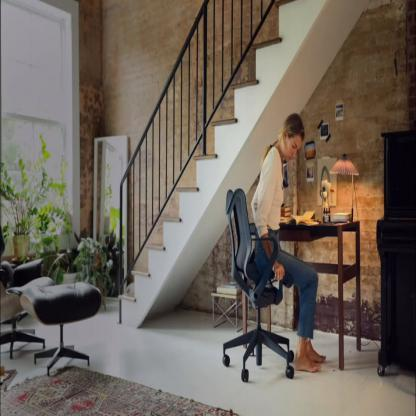chair: (213, 188, 296, 388), (22, 273, 106, 373), (0, 277, 39, 361)
light: (327, 158, 366, 224)
table: (281, 213, 364, 374)
